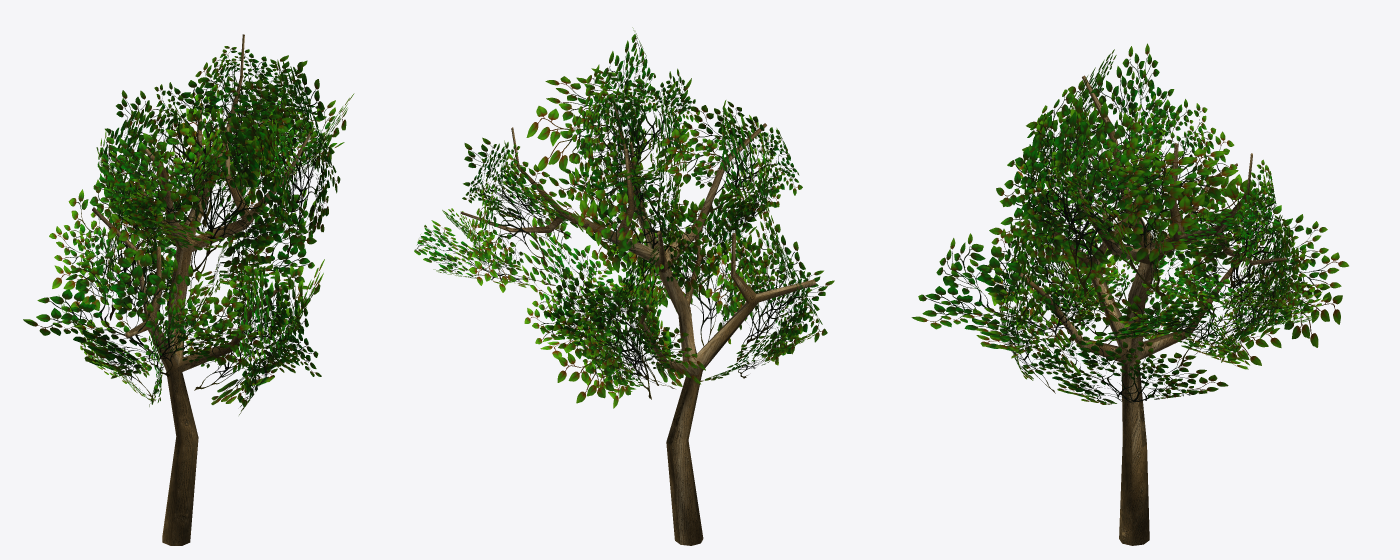
File: tree13.glb
3 renders of one model, left to right at view 1: azimuth 30°, elevation 25°; view 2: azimuth 150°, elevation 25°; view 3: azimuth 270°, elevation 25°, orthographic. The views are drawn at different scales.
Parts seen in each view (by area): view 1: tree-stylized-01; view 2: tree-stylized-01; view 3: tree-stylized-01.
Boxes of the visible parts, box(x1,y1,x2,y2) form: tree-stylized-01: box(23, 34, 354, 545); tree-stylized-01: box(414, 27, 834, 545); tree-stylized-01: box(911, 43, 1348, 545).
Bounding box in the file's own units: 596 × 755 × 632.
2 materials, 2 textured.
